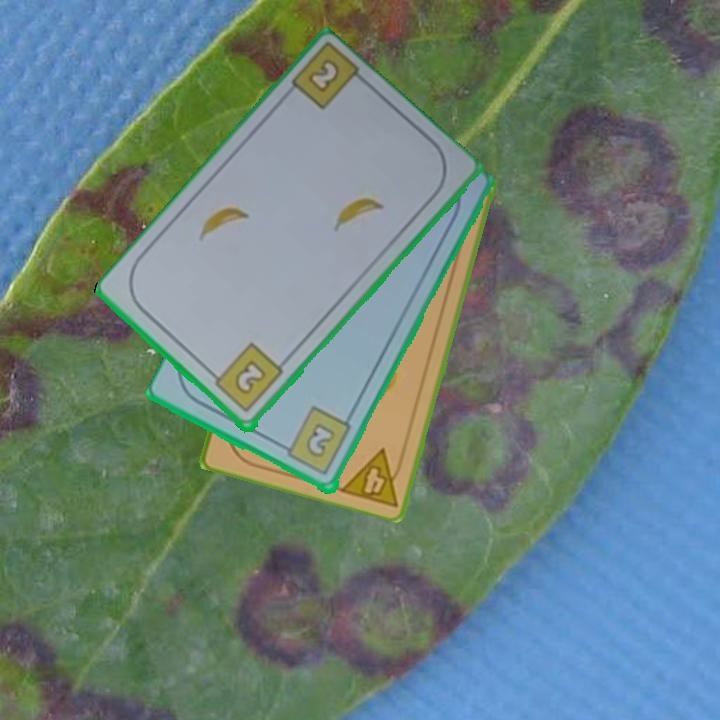2b: (206, 340, 286, 416), (276, 403, 355, 479), (304, 55, 343, 96)
4p: (336, 445, 409, 510)
